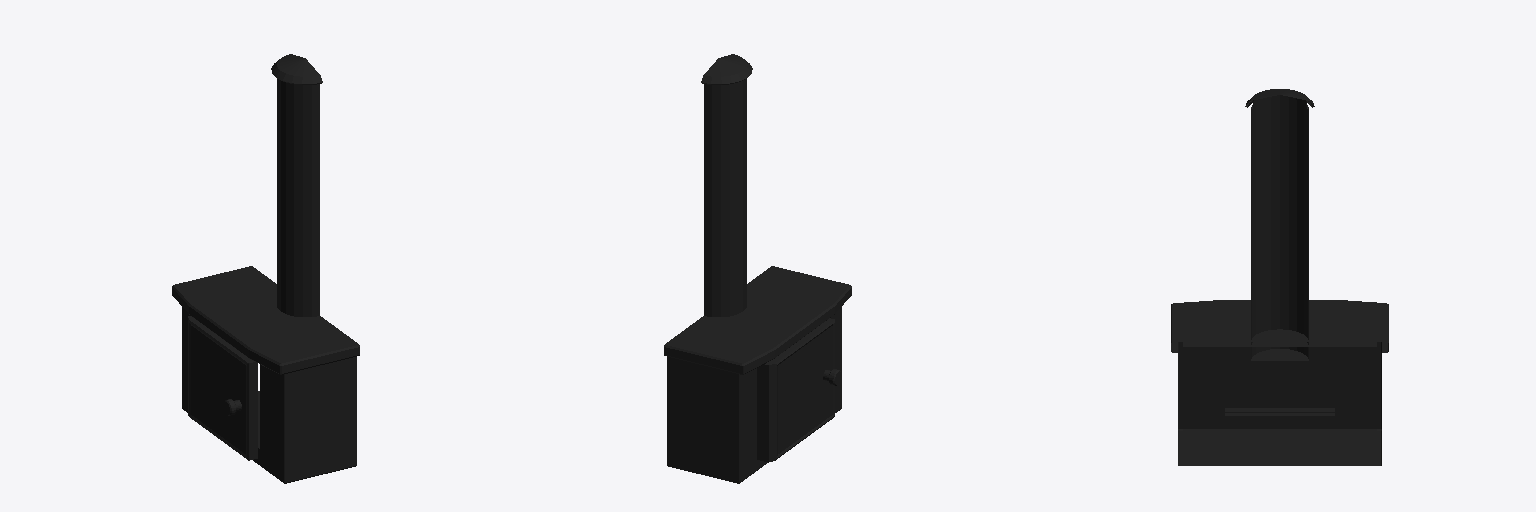
File: fireplace.obj
3 renders of one model, left to right at view 1: azimuth 30°, elevation 25°; view 2: azimuth 150°, elevation 25°; view 3: azimuth 270°, elevation 25°, orthographic.
Parts seen in each view (by area): view 1: fireplace; view 2: fireplace; view 3: fireplace.
Boxes of the visible parts, x1,y1,x2,y2 form: fireplace: [172, 54, 359, 483]; fireplace: [664, 54, 851, 483]; fireplace: [1171, 89, 1388, 465].
Size of the model in its own units: 342 by 1218 by 650.